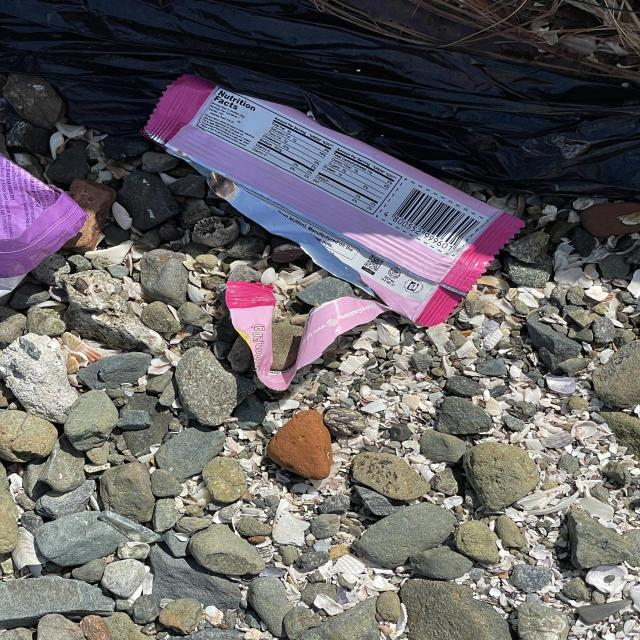plastic_waste: (141, 72, 526, 392), (1, 149, 86, 299)
